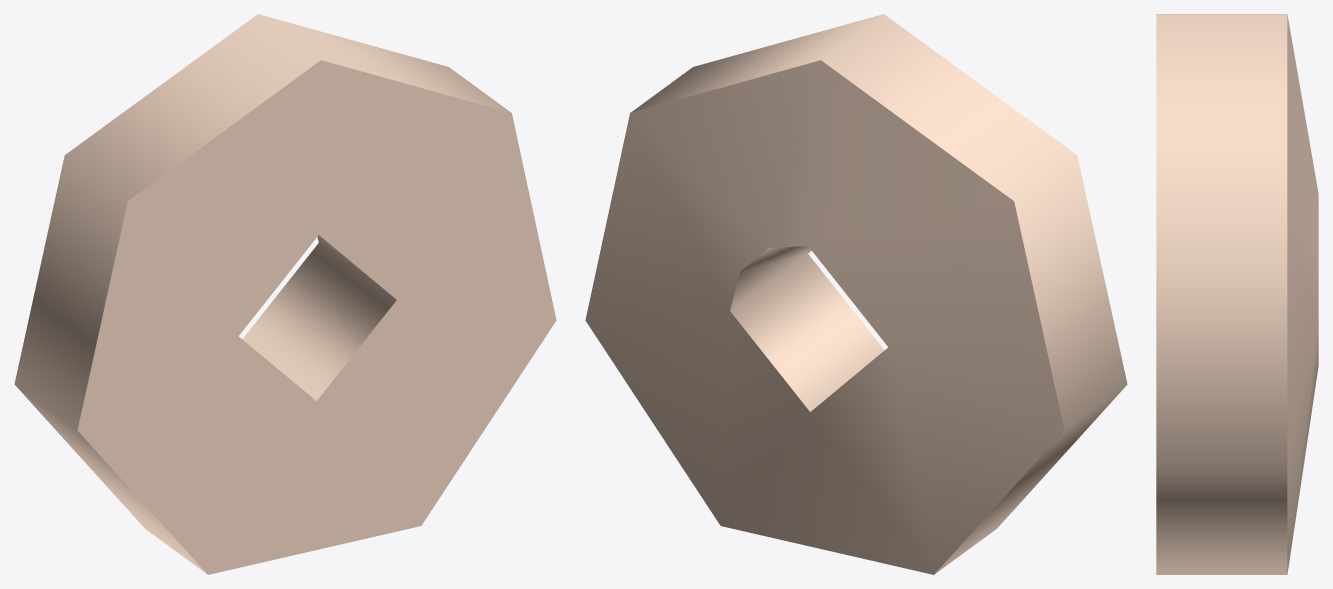
Rendered from Ecrou_Roue etoile Heures.obj.
3 renders of one model, left to right at view 1: azimuth 30°, elevation 25°; view 2: azimuth 150°, elevation 25°; view 3: azimuth 270°, elevation 25°, orthographic. The views are drawn at different scales.
Parts seen in each view (by area): view 1: Face_1, Face_2, Face_4; view 2: Face_3, Face_2, Face_4; view 3: Face_2, Face_3.
Boxes of the visible parts, x1,y1,x2,y2 form: Face_1: (77, 60, 556, 574); Face_2: (14, 14, 511, 574); Face_4: (242, 235, 396, 400); Face_3: (585, 60, 1064, 574); Face_2: (630, 14, 1127, 574); Face_4: (730, 246, 884, 411); Face_2: (1156, 14, 1287, 574); Face_3: (1287, 14, 1318, 574).
Bounding box in the file's own units: 0.00877 × 0.00858 × 0.00248.
